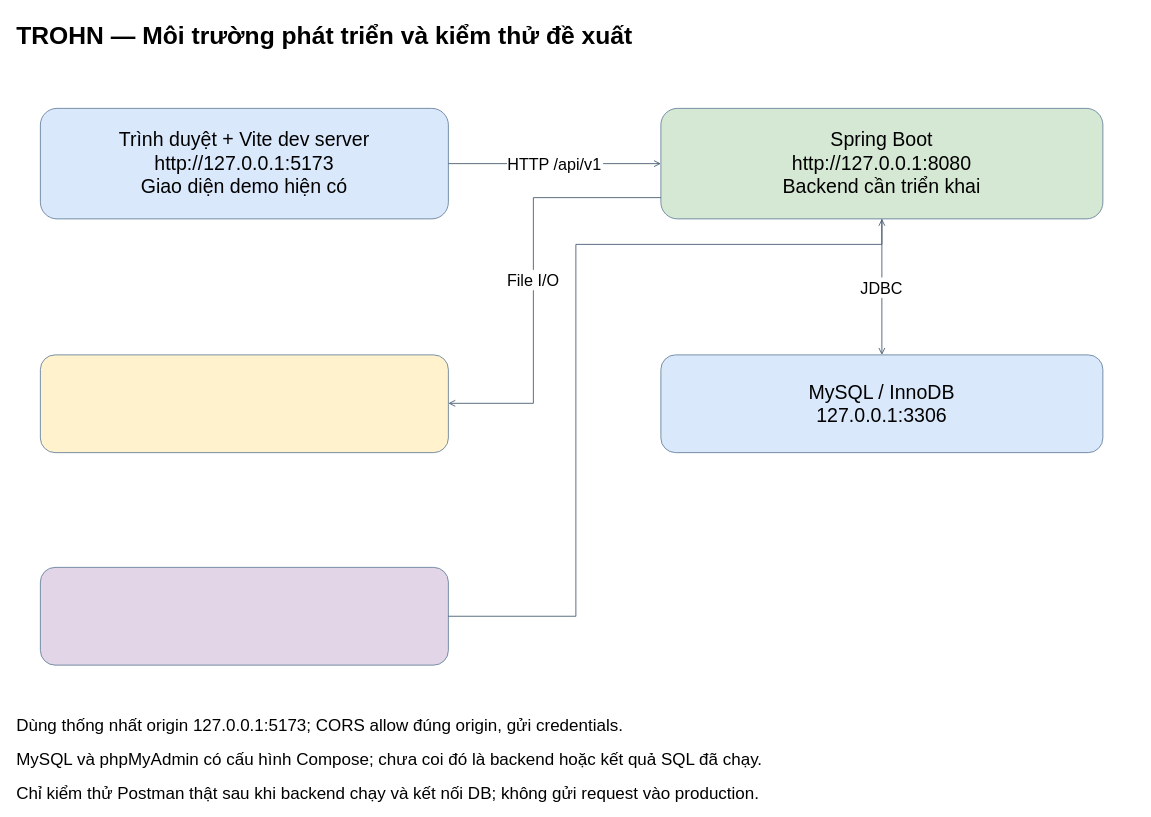
This 1151x817 diagram has some shape labels left out. Each missing label, with the centre of its shape:
"Postman / công cụ kiểm thử Cookie phiên + Origin + CSRF" goes at (x=244, y=616).
"Vùng ảnh trên máy phát triển Nằm ngoài web root" goes at (x=244, y=403).
